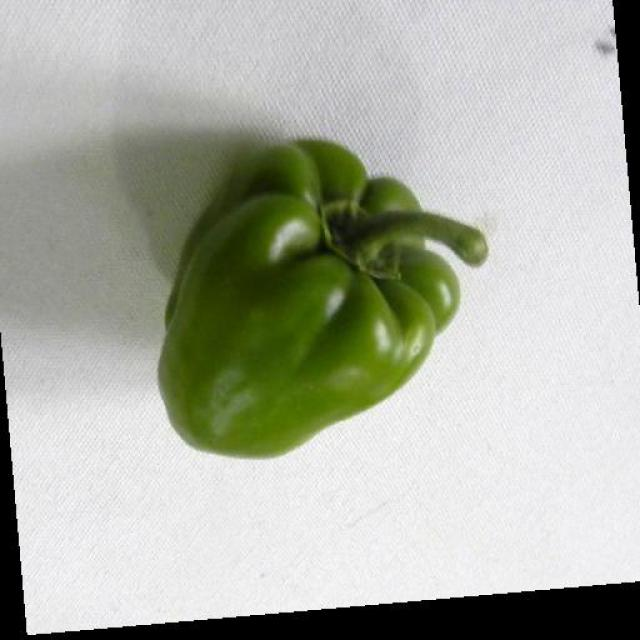Fresh_Capsicum: (197, 162, 470, 486)
